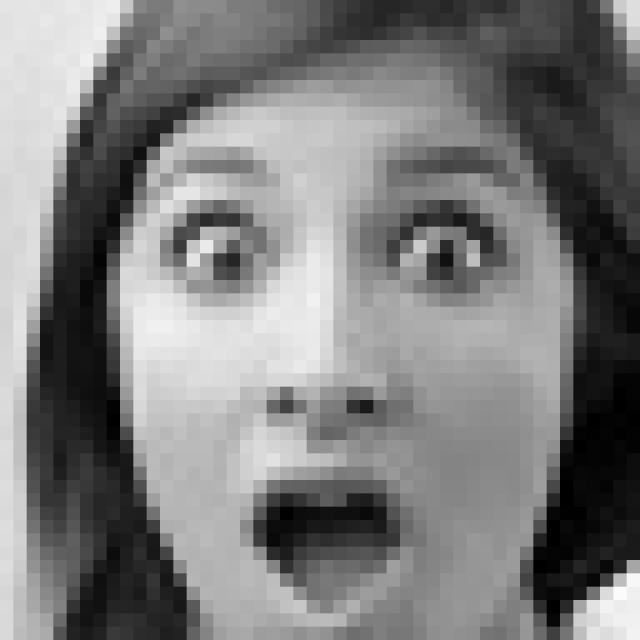surprise: (146, 140, 530, 640)
